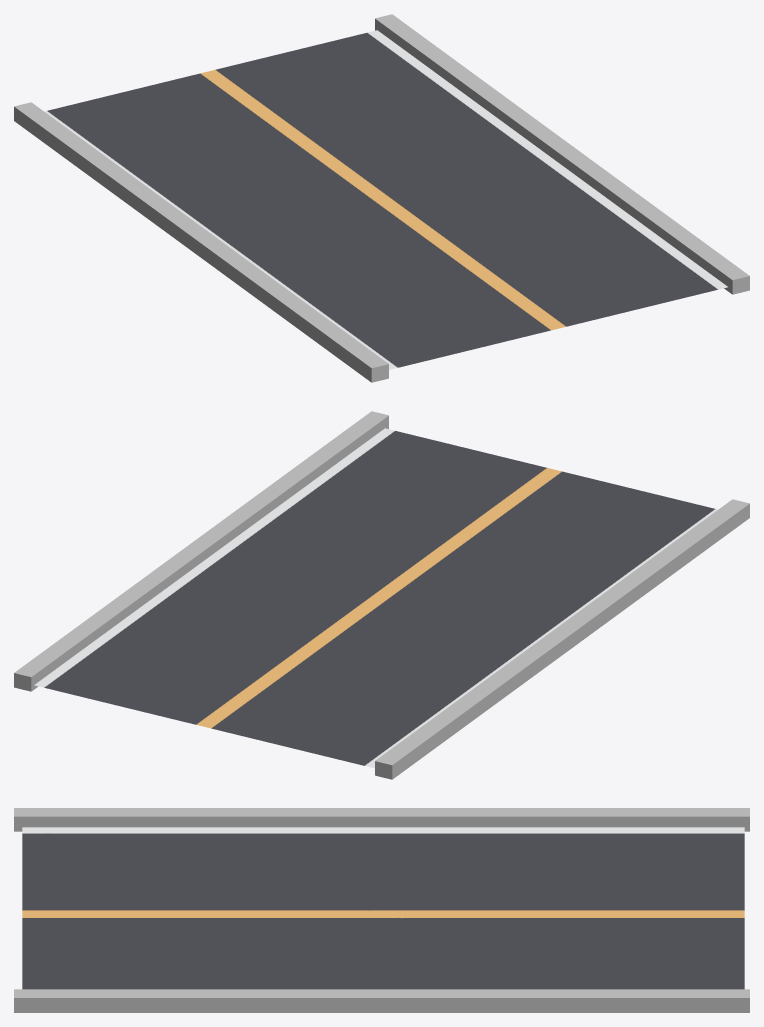
Rendered from Road.fbx.
The picture shows the model from 3 angles, top to bottom: view 1: azimuth 30°, elevation 25°; view 2: azimuth 150°, elevation 25°; view 3: azimuth 270°, elevation 25°; orthographic projection. The views are drawn at different scales.
Parts seen in each view (by area): view 1: Road; view 2: Road; view 3: Road.
Boxes of the visible parts, box(x1,y1,x2,y2) form: Road: box(14, 14, 749, 382); Road: box(14, 411, 749, 779); Road: box(14, 808, 749, 1012).
Size of the model in its own units: 656 by 24.02 by 1074.
